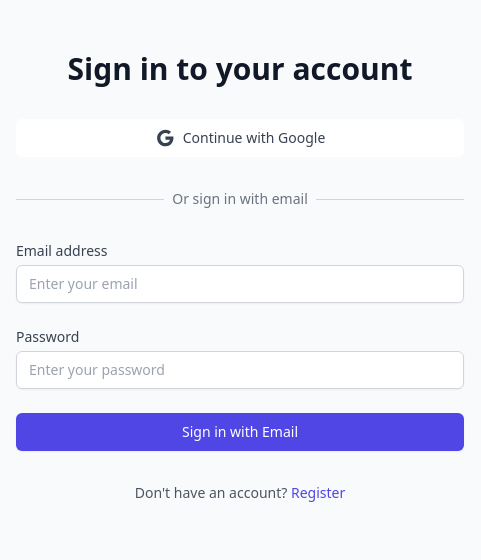
Test: LoginPage › handles login error
Type "test@example.com" into the field labelled "Email address".
click(240, 284); type("test@example.com")  # box [16,265,464,303]
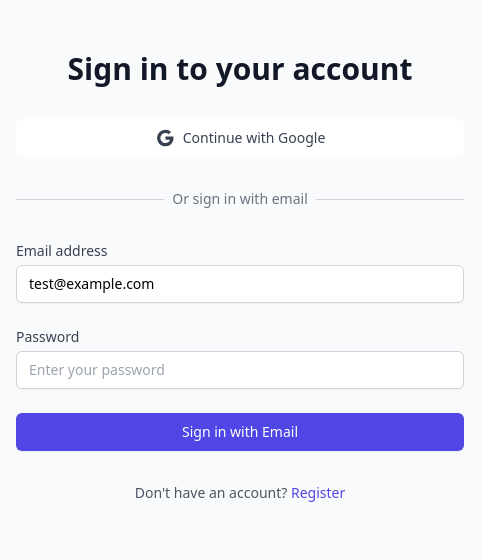
Type "password123" into the password field labelled "Password".
click(240, 370); type("password123")  # box [16,351,464,389]
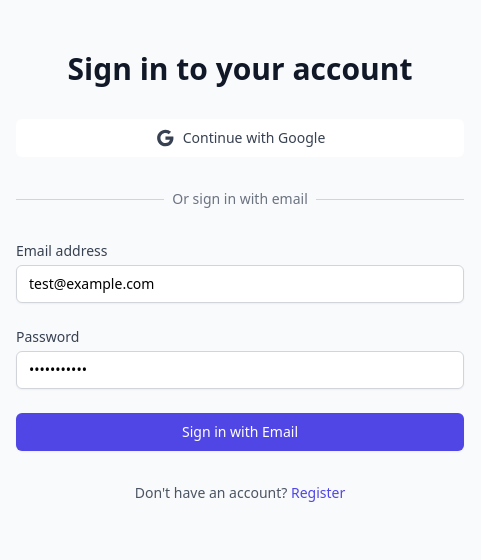
Click the button "Sign in with Email".
click(240, 432)  # box [16,413,464,451]
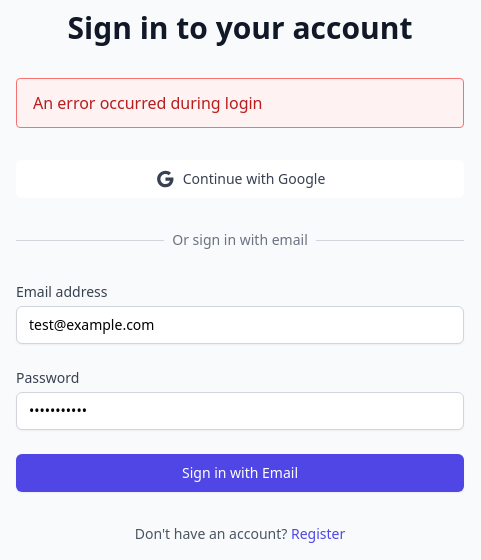
expect the text "An error occurred during login" is shown: met, box [33,92,262,114]
